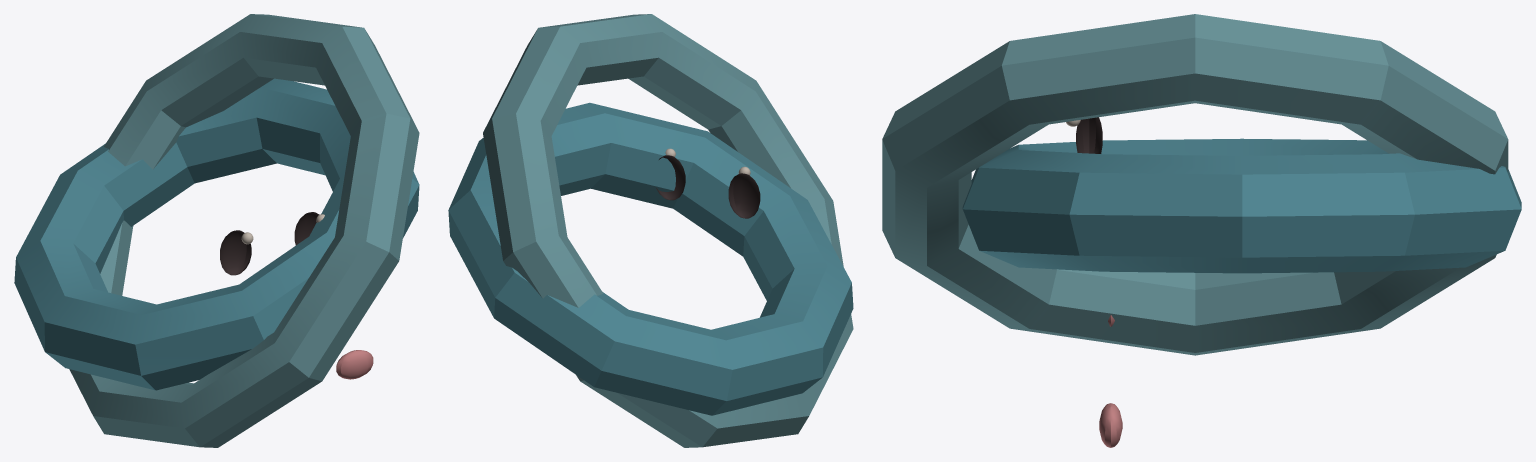
3 renders of one model, left to right at view 1: azimuth 30°, elevation 25°; view 2: azimuth 150°, elevation 25°; view 3: azimuth 270°, elevation 25°, orthographic. The views are drawn at different scales.
Parts seen in each view (by area): view 1: pet_p8a0a7396; view 2: pet_p8a0a7396; view 3: pet_p8a0a7396.
Boxes of the visible parts, x1,y1,x2,y2 form: pet_p8a0a7396: [14, 14, 419, 447]; pet_p8a0a7396: [448, 14, 853, 447]; pet_p8a0a7396: [882, 14, 1521, 447].
Size of the model in its own units: 0.4611 by 0.4555 by 0.5441.
